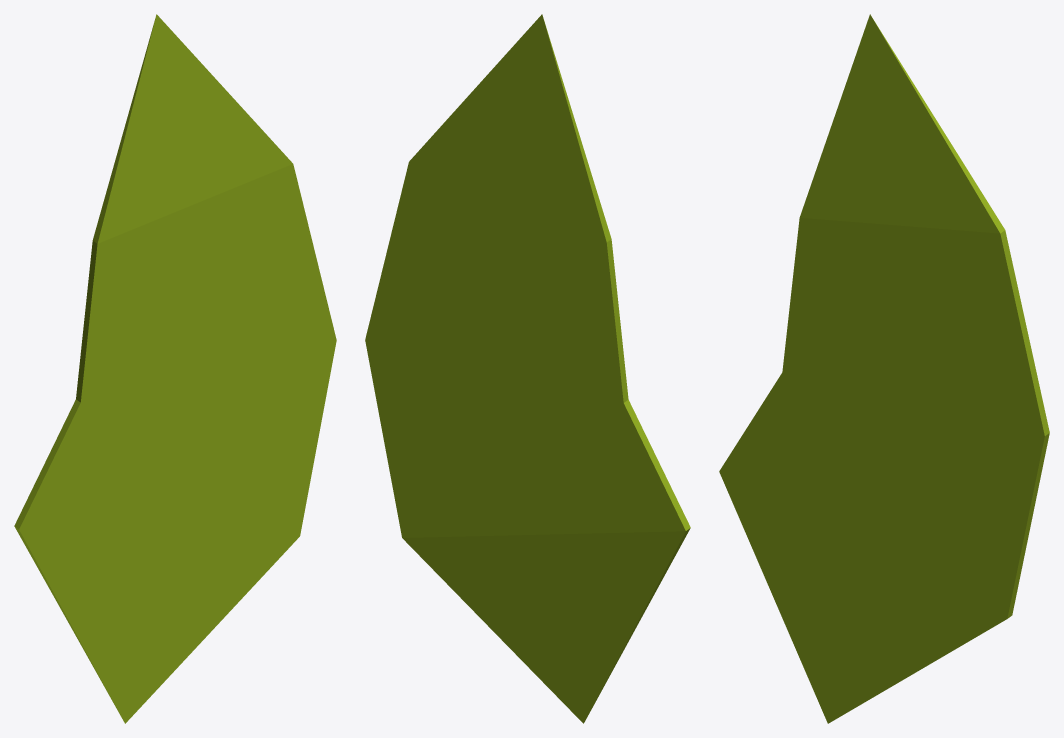
The model's file is Leave_a_01.fbx.
3 renders of one model, left to right at view 1: azimuth 30°, elevation 25°; view 2: azimuth 150°, elevation 25°; view 3: azimuth 330°, elevation 25°, orthographic. The views are drawn at different scales.
Visible parts, largest first — view 1: Leave_a_01_LOD0; view 2: Leave_a_01_LOD0; view 3: Leave_a_01_LOD0.
Part boxes in pixels (x1,y1,x2,y2): Leave_a_01_LOD0: [14, 14, 336, 723]; Leave_a_01_LOD0: [365, 14, 690, 723]; Leave_a_01_LOD0: [719, 14, 1049, 723].
Size of what is drawn, in the model's own units: 1.76 by 3.68 by 0.0463.
